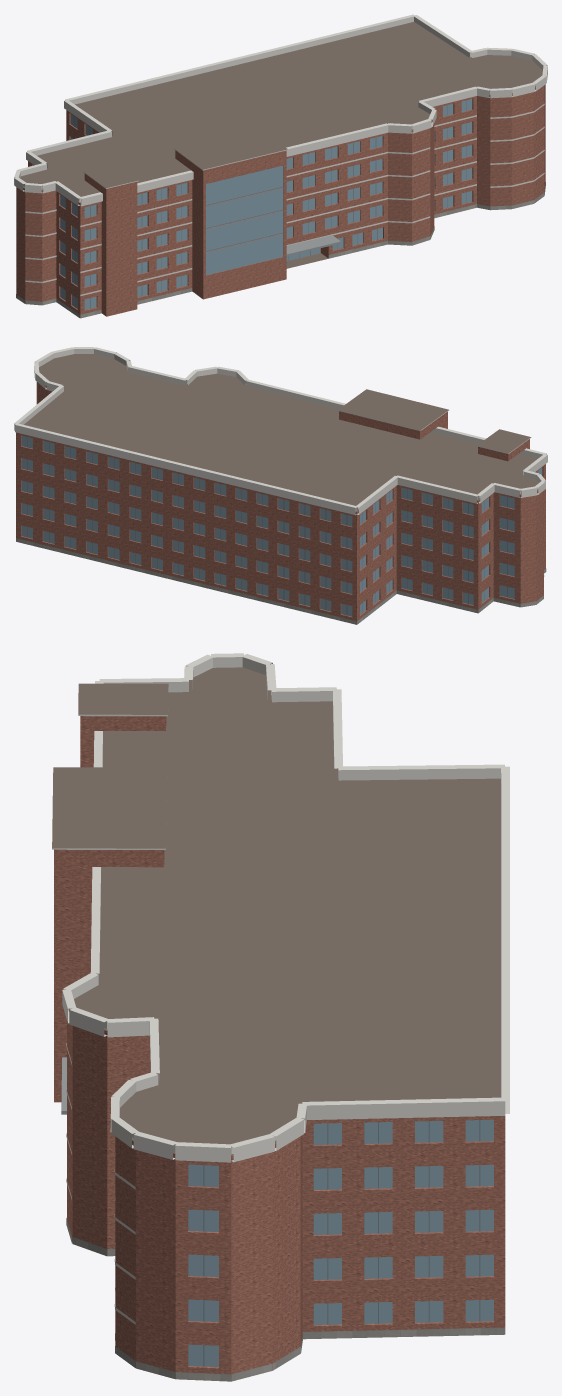
3 views of the same model, one above another, from view 1: azimuth 30°, elevation 25°; view 2: azimuth 150°, elevation 25°; view 3: azimuth 270°, elevation 25° (orthographic). The views are drawn at different scales.
Parts seen in each view (by area): view 1: naturalScience__wall, naturalScience__roof, naturalScience__glass, naturalScience__trim, naturalScience__base, naturalScience__frame, naturalScience__canopy; view 2: naturalScience__wall, naturalScience__roof, naturalScience__glass, naturalScience__trim, naturalScience__base, naturalScience__frame; view 3: naturalScience__roof, naturalScience__wall, naturalScience__trim, naturalScience__glass, naturalScience__base, naturalScience__frame.
Boxes of the visible parts, bbox=[...] form: naturalScience__wall: bbox=[16, 84, 545, 317]; naturalScience__roof: bbox=[20, 22, 542, 268]; naturalScience__glass: bbox=[60, 99, 472, 309]; naturalScience__trim: bbox=[14, 14, 547, 296]; naturalScience__base: bbox=[16, 182, 545, 318]; naturalScience__frame: bbox=[74, 100, 466, 308]; naturalScience__canopy: bbox=[286, 235, 340, 256]; naturalScience__wall: bbox=[16, 382, 545, 624]; naturalScience__roof: bbox=[24, 354, 538, 512]; naturalScience__glass: bbox=[21, 435, 542, 616]; naturalScience__trim: bbox=[14, 347, 547, 576]; naturalScience__base: bbox=[16, 538, 546, 624]; naturalScience__frame: bbox=[27, 437, 507, 615]; naturalScience__roof: bbox=[52, 667, 501, 1379]; naturalScience__wall: bbox=[54, 716, 505, 1380]; naturalScience__trim: bbox=[52, 653, 509, 1324]; naturalScience__glass: bbox=[188, 1119, 493, 1366]; naturalScience__base: bbox=[66, 1218, 505, 1381]; naturalScience__frame: bbox=[203, 1120, 480, 1366].
Bounding box in the file's own units: 87.24 × 20.97 × 34.12.
8 materials, 2 textured.
